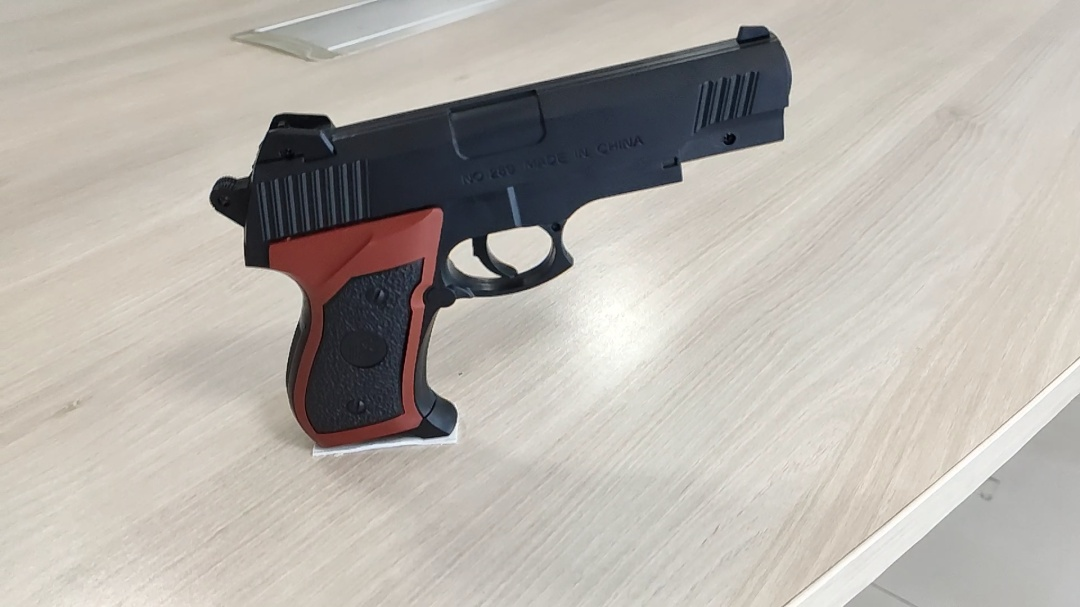gun: (405, 225, 510, 370)
